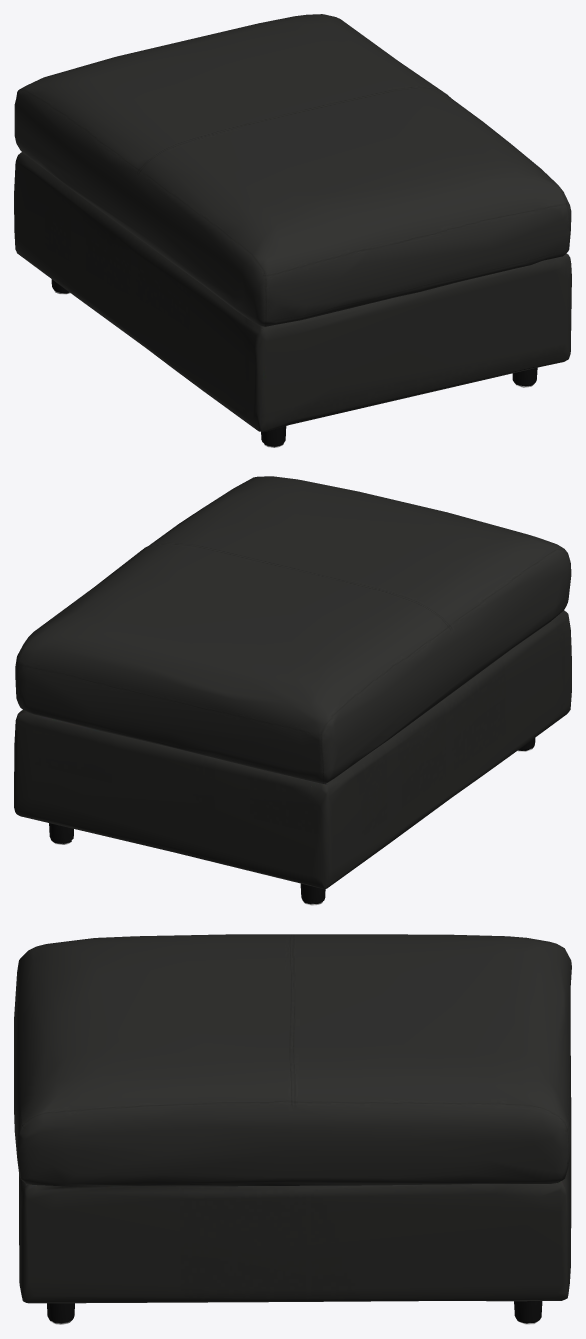
Rendered from vimle_podnozek_ze_schowkiem_60465384.glb.
3 views of the same model, one above another, from view 1: azimuth 30°, elevation 25°; view 2: azimuth 150°, elevation 25°; view 3: azimuth 270°, elevation 25° (orthographic). The views are drawn at different scales.
Parts seen in each view (by area): view 1: vimle_podnozek_ze_schowkiem_60465384; view 2: vimle_podnozek_ze_schowkiem_60465384; view 3: vimle_podnozek_ze_schowkiem_60465384.
Boxes of the visible parts, bbox=[...] form: vimle_podnozek_ze_schowkiem_60465384: bbox=[14, 14, 571, 447]; vimle_podnozek_ze_schowkiem_60465384: bbox=[14, 476, 571, 905]; vimle_podnozek_ze_schowkiem_60465384: bbox=[14, 934, 571, 1324].
Size of the model in its own units: 0.7111 by 0.4723 by 0.948.
2 materials, 2 textured.
